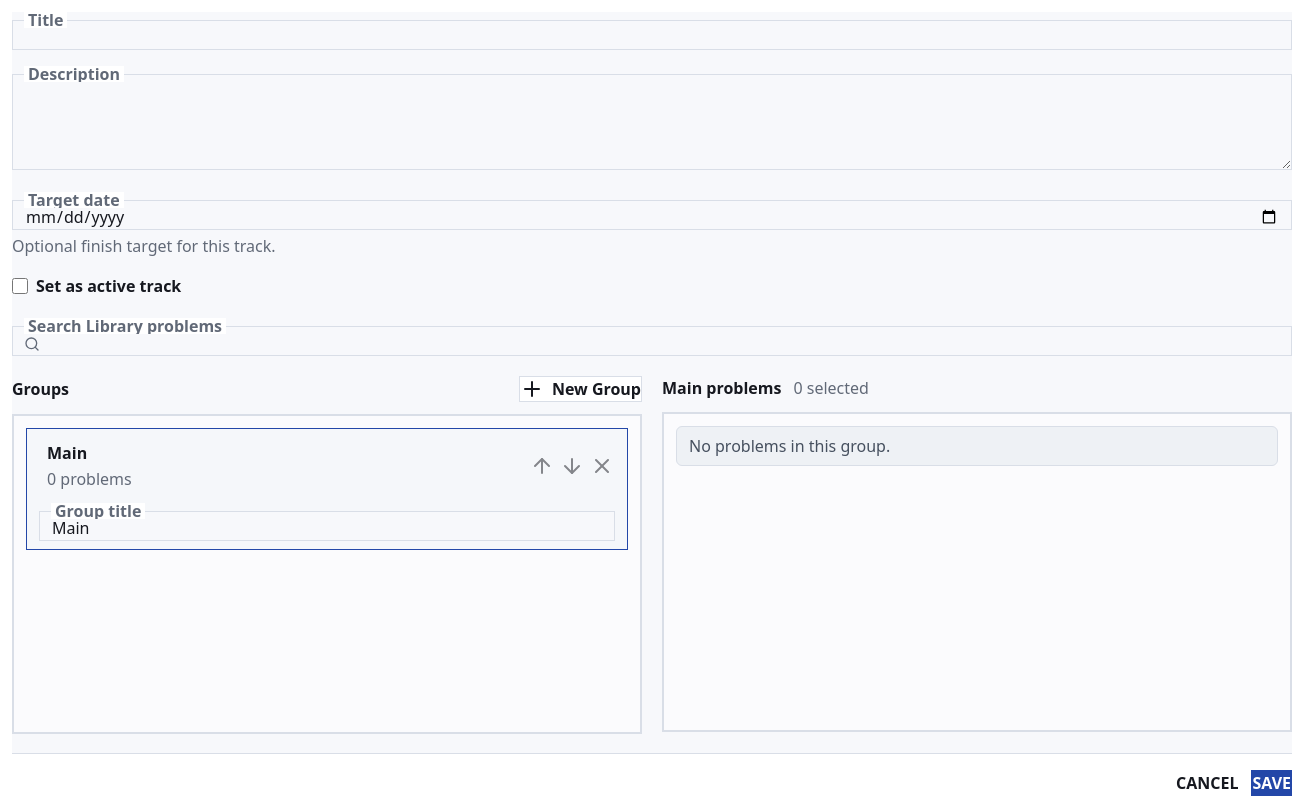
Scenario: TrackForm › blocks a past target date in create mode
Type "Past Track" into the field labelled "Title" at {"x": 652, "y": 35}, box [12, 20, 1292, 50]
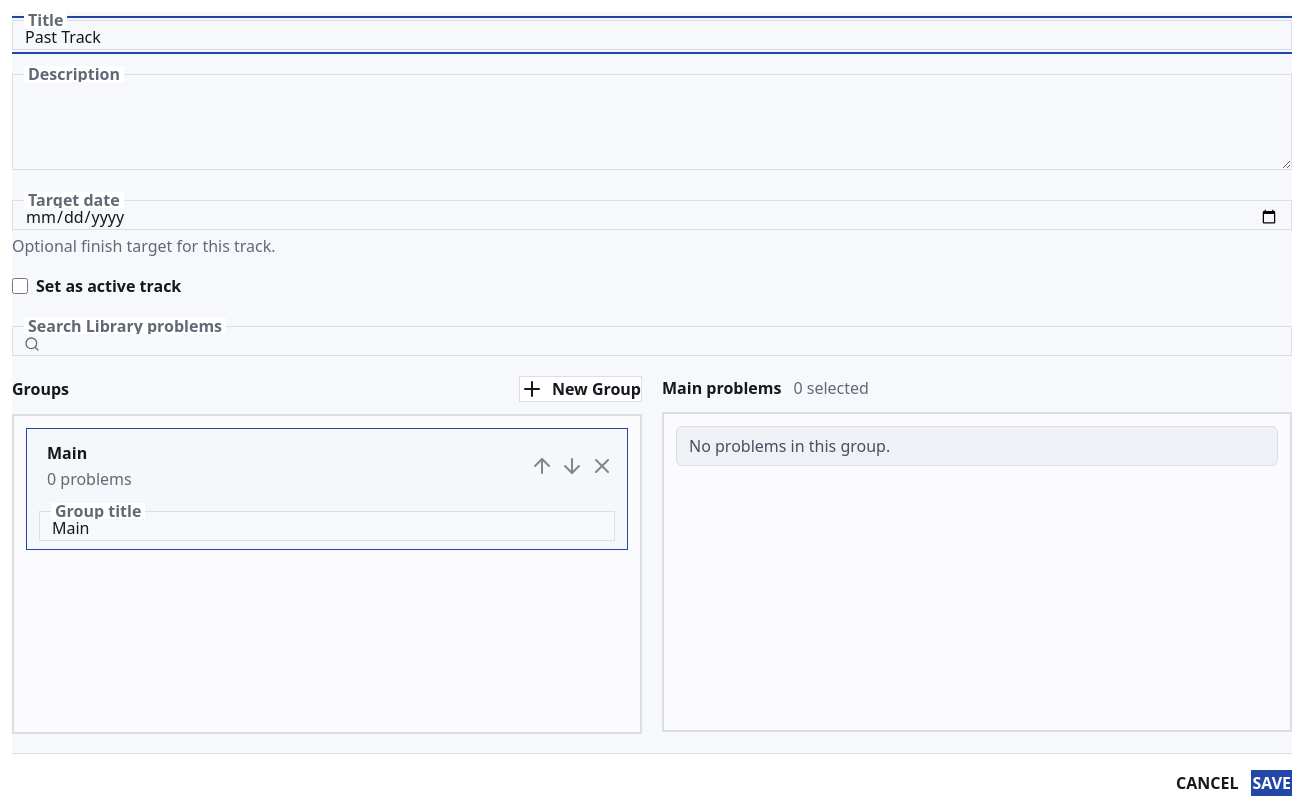
Type "2026-05-24" into the date field labelled "Target date" at {"x": 652, "y": 215}, box [12, 200, 1292, 230]
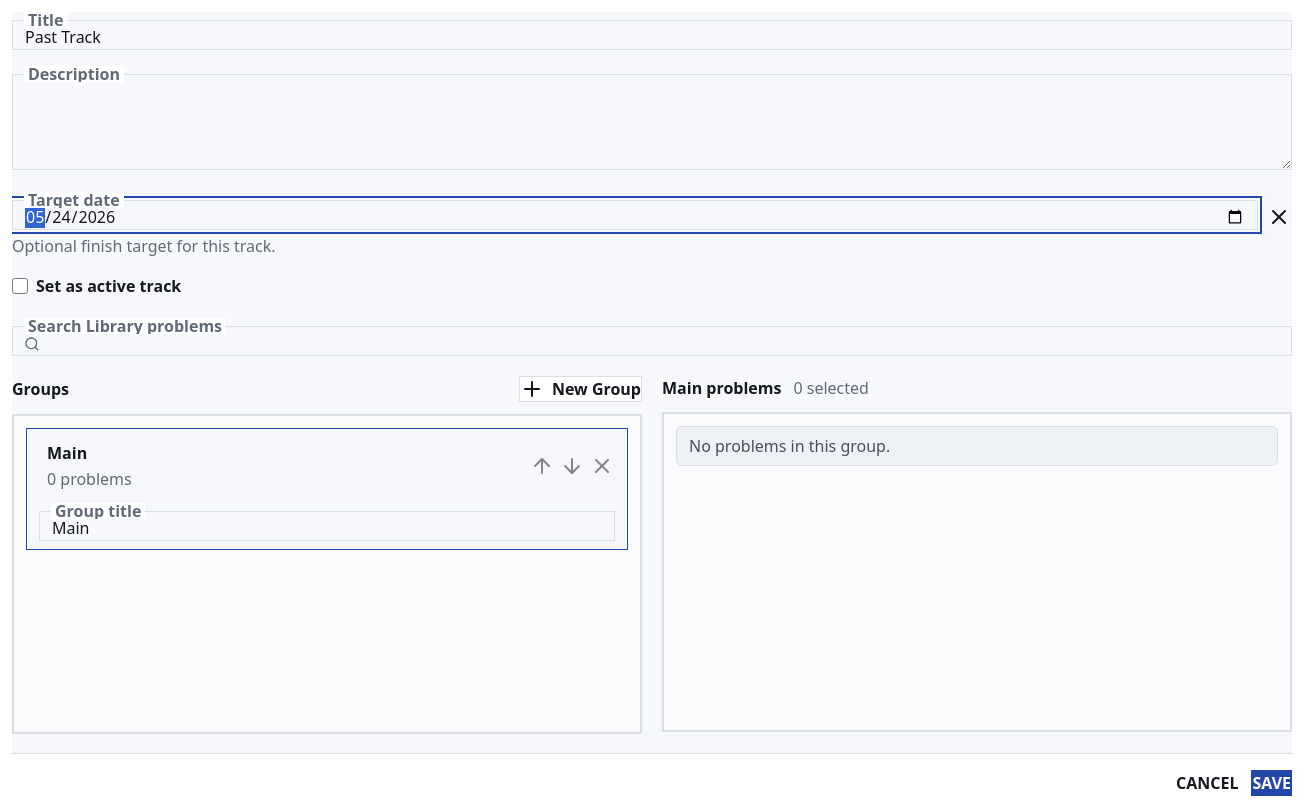
Click the button "SAVE" at {"x": 1272, "y": 783}, box [1251, 770, 1292, 796]
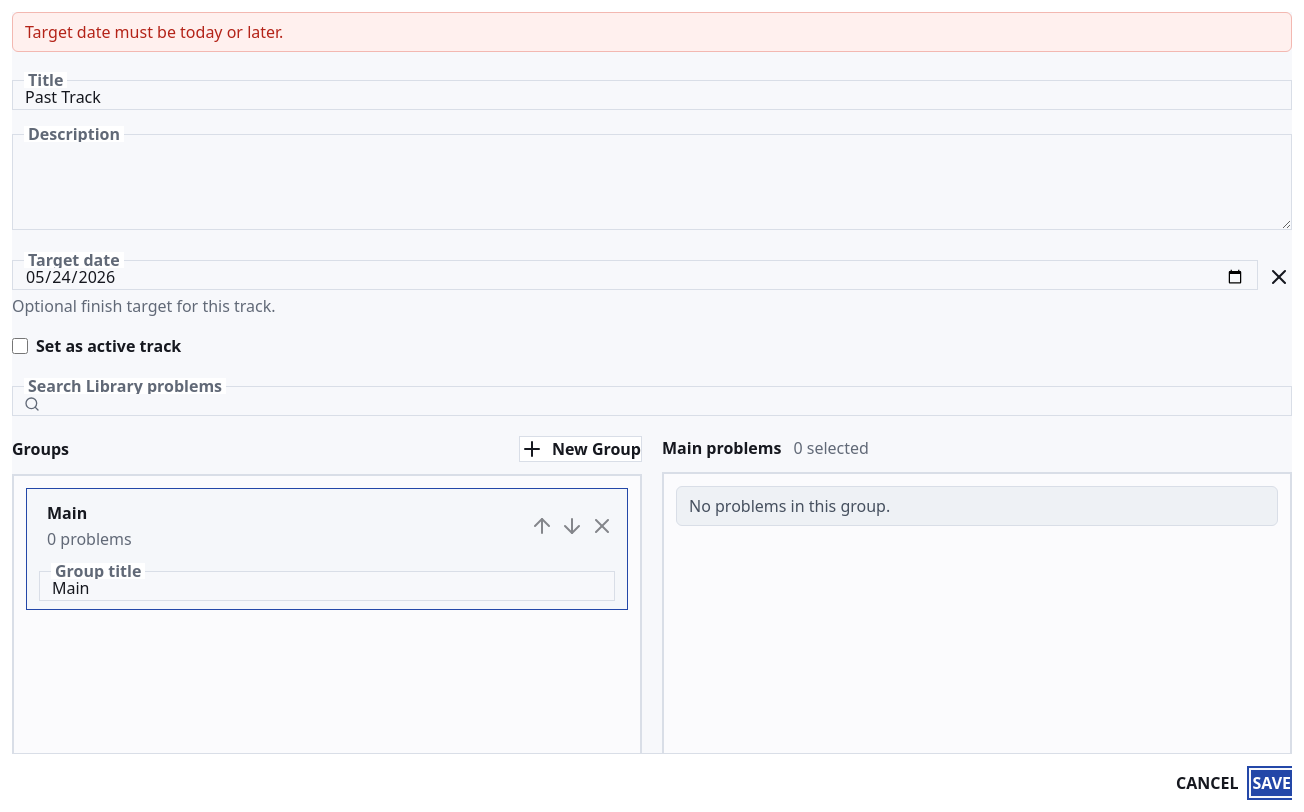
Expected: the message "Target date must be today or later." is shown, [12, 12, 1292, 52]
